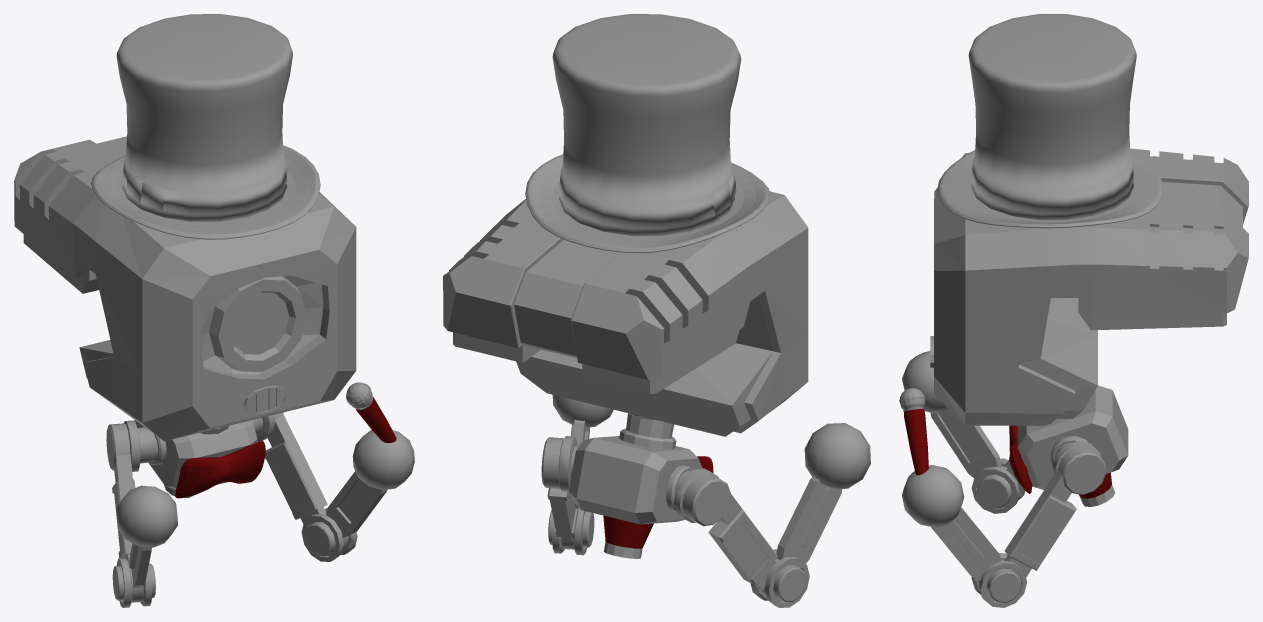
Rendered from presentador.FBX.
3 renders of one model, left to right at view 1: azimuth 30°, elevation 25°; view 2: azimuth 150°, elevation 25°; view 3: azimuth 270°, elevation 25°, orthographic. The views are drawn at different scales.
Parts seen in each view (by area): view 1: robot, Cylinder002; view 2: robot, Cylinder002; view 3: robot, Cylinder002.
Part boxes in pixels (<box>): robot: <box>14,14,396,442</box>; Cylinder002: <box>106,412,414,607</box>; robot: <box>443,14,808,449</box>; Cylinder002: <box>541,395,870,607</box>; robot: <box>899,14,1248,475</box>; Cylinder002: <box>902,351,1128,607</box>.
Bounding box in the file's own units: 88.31 × 149 × 92.97.
